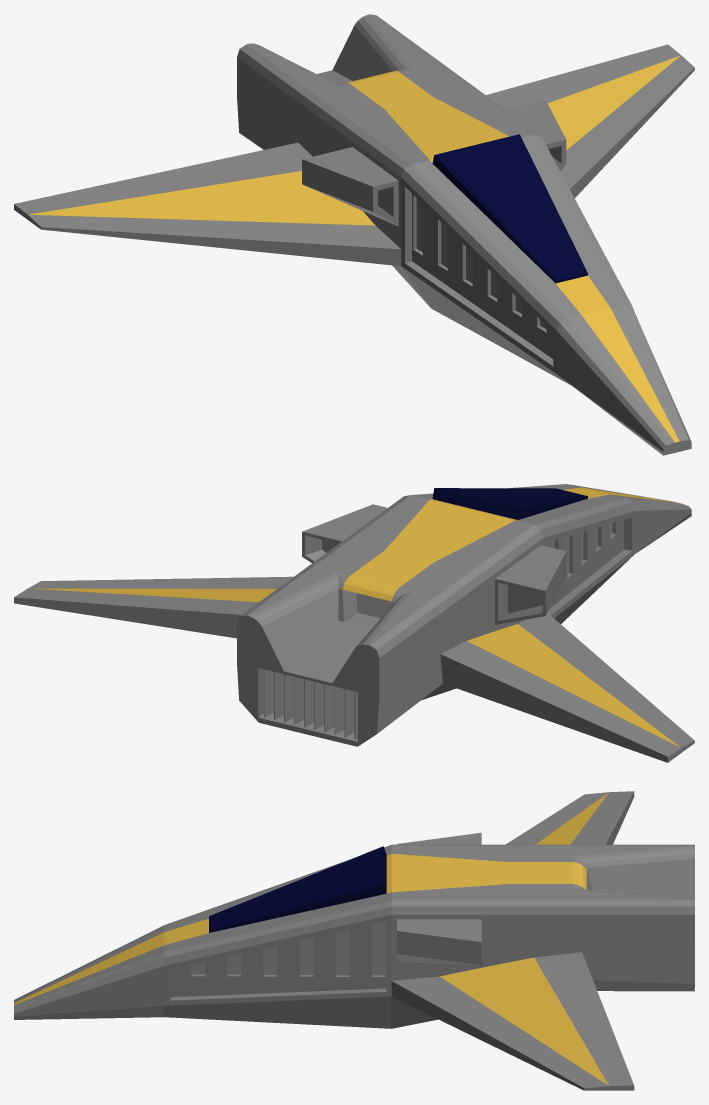
File: ship_1.gltf
The picture shows the model from 3 angles, top to bottom: view 1: azimuth 30°, elevation 25°; view 2: azimuth 150°, elevation 25°; view 3: azimuth 270°, elevation 25°; orthographic projection. The views are drawn at different scales.
Visible parts, largest first — view 1: Ship; view 2: Ship; view 3: Ship.
Part boxes in pixels (x1,y1,x2,y2): Ship: (14,14,694,455); Ship: (14,484,694,762); Ship: (14,791,694,1090).
Bounding box in the file's own units: 9.19 × 2.16 × 8.99.
